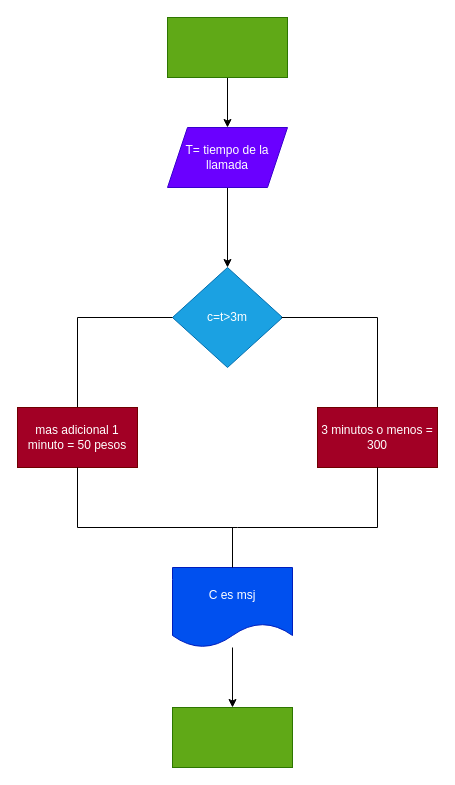
Some shapes in this 455 by 785 pixel diagram are drawn without their labels. The centre of each missing label's shape, as x and y in pixels:
fin: the point at 232,737
inicio: the point at 227,47
